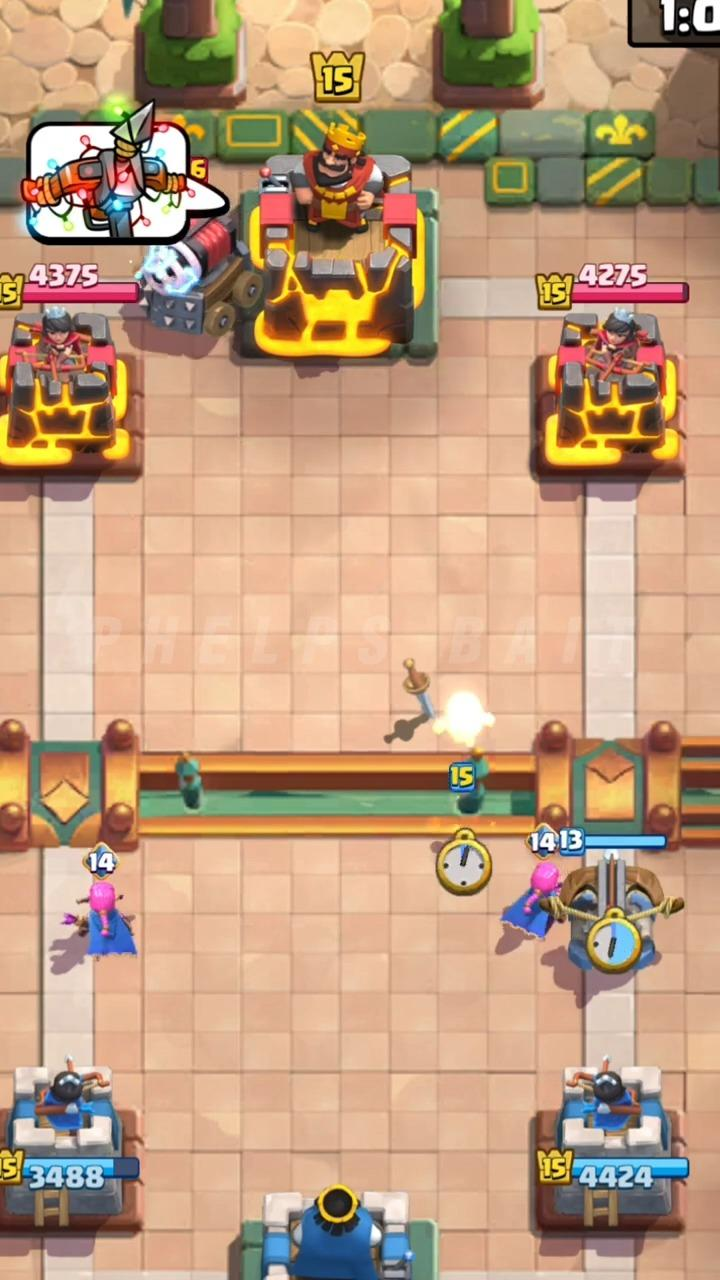archer: (62, 879, 136, 957), (501, 862, 562, 939)
ice spirit: (435, 692, 494, 751)
sparky: (140, 207, 263, 336)
x-bow: (551, 851, 684, 968), (569, 925, 588, 966)
